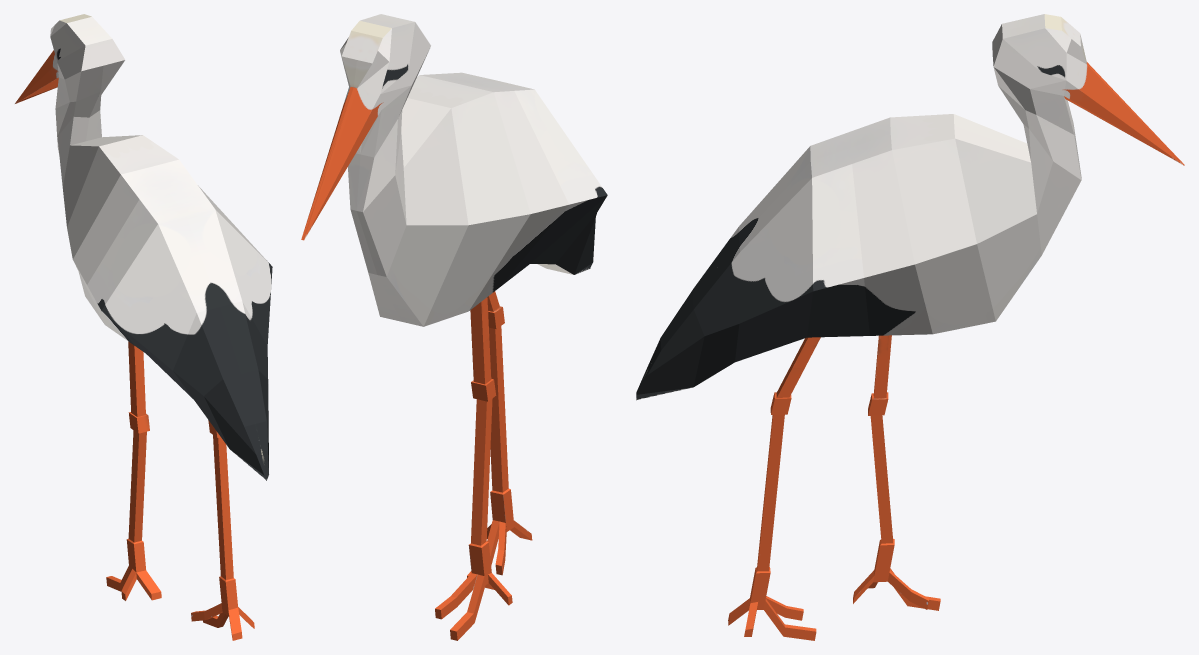
File: gandras.glb
3 renders of one model, left to right at view 1: azimuth 30°, elevation 25°; view 2: azimuth 150°, elevation 25°; view 3: azimuth 270°, elevation 25°, orthographic. The views are drawn at different scales.
Visible parts, largest first — view 1: Plane; view 2: Plane; view 3: Plane.
Part boxes in pixels (x1,y1,x2,y2): Plane: [15, 14, 272, 640]; Plane: [301, 14, 607, 640]; Plane: [636, 14, 1184, 640].
Size of the model in its own units: 2.75 by 8.07 by 6.63.
1 material, 1 textured.
